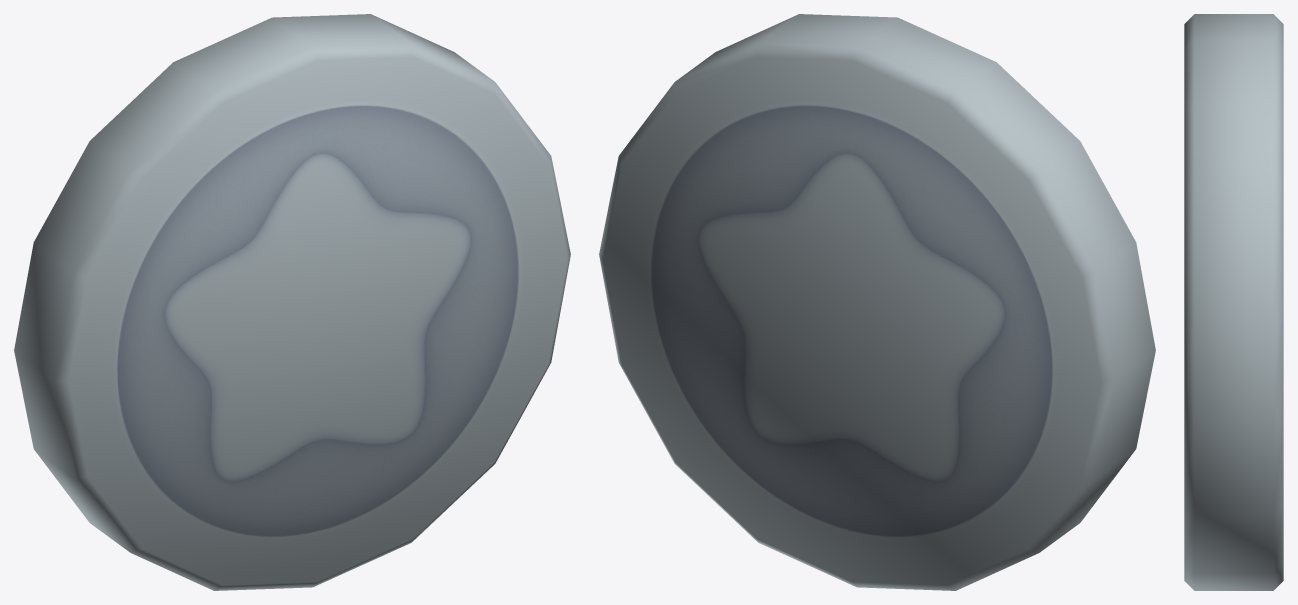
The model's file is Coin_Star_Silver.FBX.
3 views of the same model, side by side, from view 1: azimuth 30°, elevation 25°; view 2: azimuth 150°, elevation 25°; view 3: azimuth 270°, elevation 25° (orthographic). The views are drawn at different scales.
Visible parts, largest first — view 1: Coin_Star_Silver; view 2: Coin_Star_Silver; view 3: Coin_Star_Silver.
Part boxes in pixels (bbox=[...]): Coin_Star_Silver: bbox=[14, 14, 570, 590]; Coin_Star_Silver: bbox=[599, 14, 1155, 590]; Coin_Star_Silver: bbox=[1184, 14, 1283, 590].
Size of the model in its own units: 70 by 70 by 12.
Materials: 1 (1 with a texture image).
